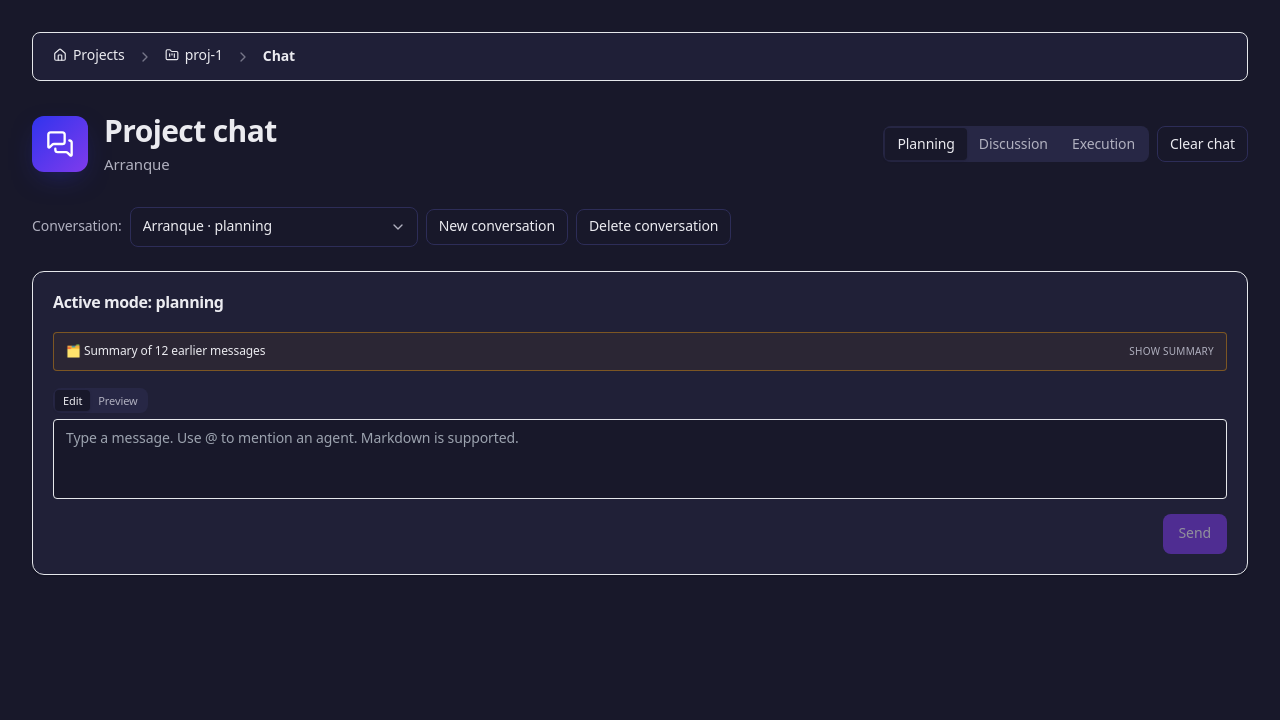
Test case: projects/[id]/chat — chat del proyecto › el resumen plegado del feed se traduce, incluido su cuerpo al desplegarlo
What coordinates should you click on to do the following:
click the button with test id "chat-summary-toggle"
I would click on:
 (166, 351)
Its box is [66,341,1214,362].
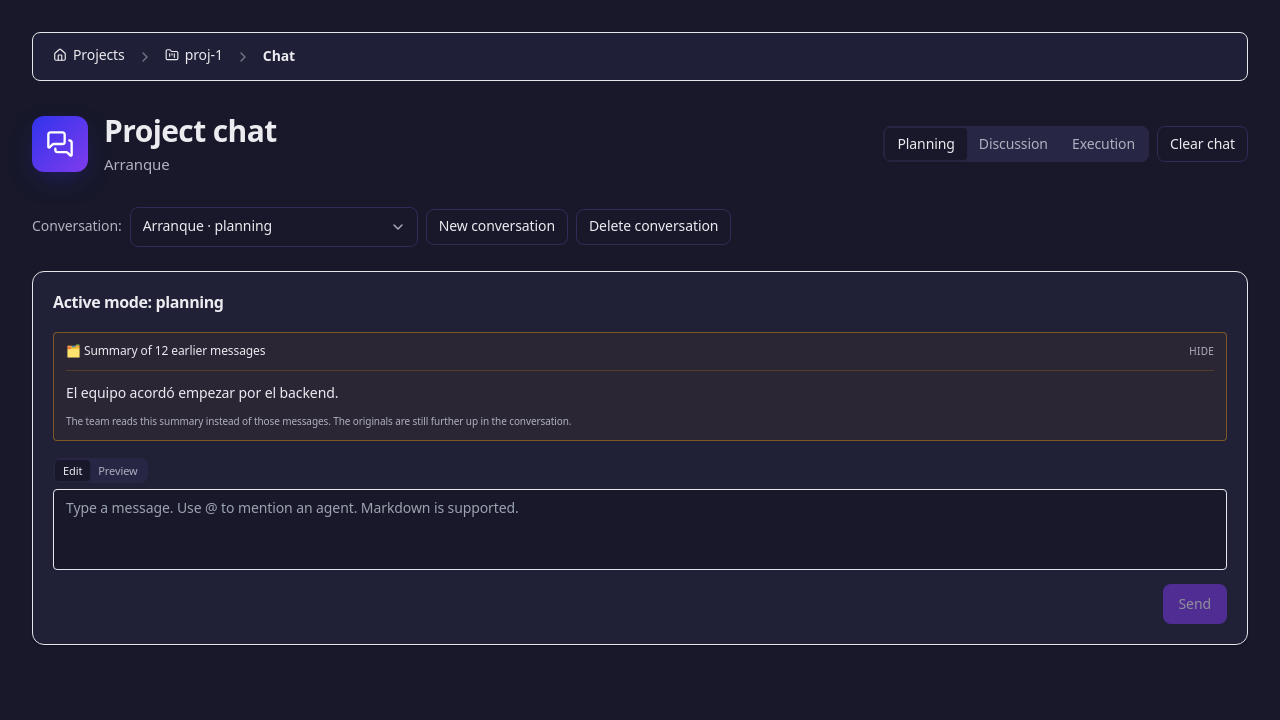
Check: the element with test id "chat-summary-body" shows "The team reads this summary instead of those messages", box [66,414,571,428]
Check: the button with test id "chat-summary-toggle" shows "hide", box [66,341,1214,362]
